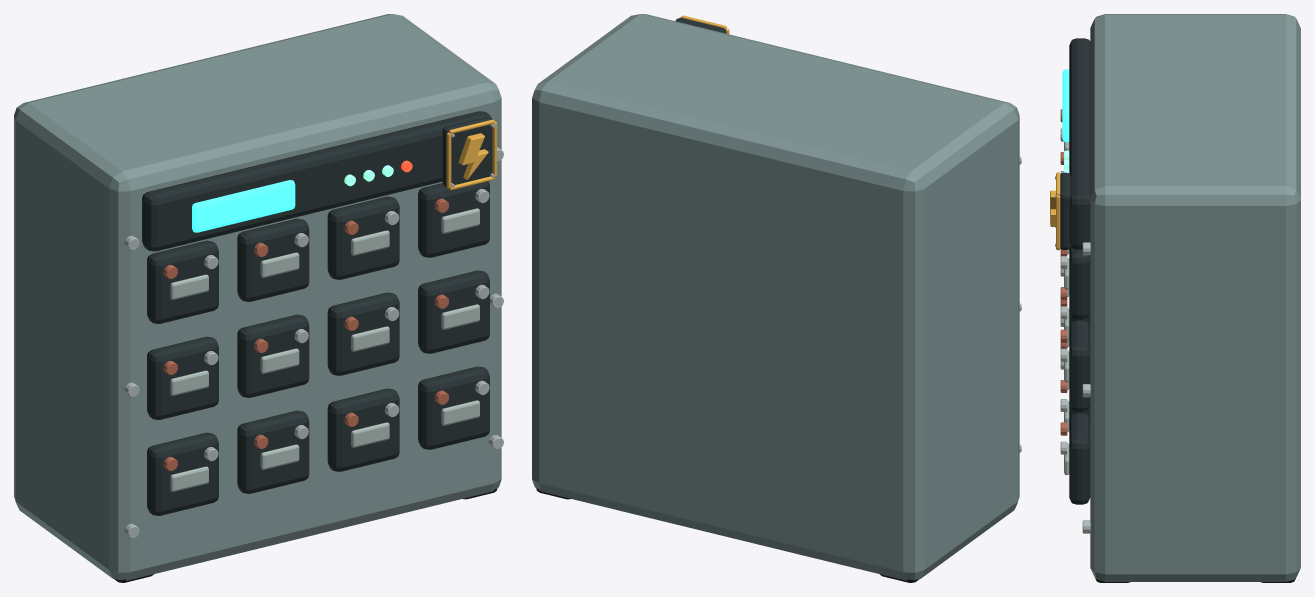
The model's file is 06_electrical_backup_battery_bank_1p45x0p7x1p45m.glb.
3 renders of one model, left to right at view 1: azimuth 30°, elevation 25°; view 2: azimuth 150°, elevation 25°; view 3: azimuth 270°, elevation 25°, orthographic. The views are drawn at different scales.
Visible parts, largest first — view 1: BATTERY_Main_Cabinet, BATTERY_Control_Panel, BATTERY_Cell_1_3, BATTERY_Cell_2_3, BATTERY_Cell_3_3, BATTERY_Cell_1_2, BATTERY_Cell_2_2, BATTERY_Cell_3_2, BATTERY_Cell_1_1, BATTERY_Cell_1_4, BATTERY_Cell_3_1, BATTERY_Cell_2_1 (+17 smaller); view 2: BATTERY_Main_Cabinet; view 3: BATTERY_Main_Cabinet, BATTERY_Control_Panel, BATTERY_Cell_1_4, BATTERY_Cell_2_4, BATTERY_Cell_3_4, BATTERY_Electrical_Recess, BATTERY_Status_Screen.
Boxes of the visible parts, <box> form: BATTERY_Main_Cabinet: <box>14,14,501,580</box>; BATTERY_Control_Panel: <box>142,111,490,251</box>; BATTERY_Cell_1_3: <box>327,388,399,471</box>; BATTERY_Cell_2_3: <box>327,292,399,375</box>; BATTERY_Cell_3_3: <box>327,196,399,279</box>; BATTERY_Cell_1_2: <box>237,410,309,493</box>; BATTERY_Cell_2_2: <box>237,314,309,397</box>; BATTERY_Cell_3_2: <box>237,218,309,301</box>; BATTERY_Cell_1_1: <box>147,432,218,515</box>; BATTERY_Cell_1_4: <box>418,366,489,449</box>; BATTERY_Cell_3_1: <box>147,240,218,323</box>; BATTERY_Cell_2_1: <box>147,336,218,419</box>; BATTERY_Main_Cabinet: <box>532,14,1019,580</box>; BATTERY_Main_Cabinet: <box>1090,14,1300,581</box>; BATTERY_Control_Panel: <box>1069,38,1090,249</box>; BATTERY_Cell_1_4: <box>1069,413,1090,504</box>; BATTERY_Cell_2_4: <box>1069,320,1090,411</box>; BATTERY_Cell_3_4: <box>1069,247,1090,319</box>; BATTERY_Electrical_Recess: <box>1060,172,1071,249</box>; BATTERY_Status_Screen: <box>1062,69,1069,142</box>.
Bounding box in the file's own units: 1.45 × 1.45 × 0.8335.
